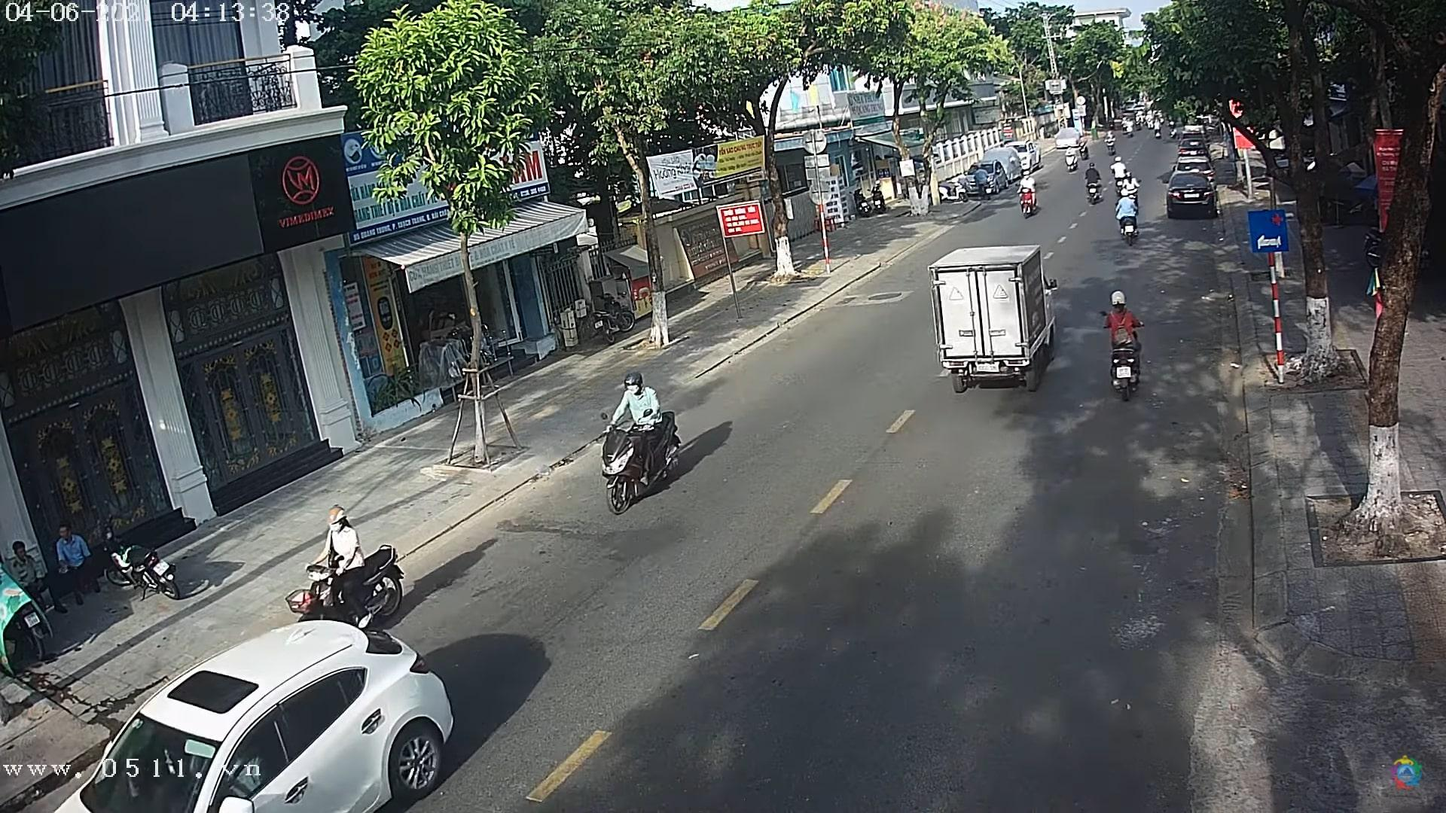car: (70, 620, 470, 812), (1164, 164, 1220, 217)
motorbike: (597, 405, 691, 512), (1106, 317, 1148, 401), (1117, 202, 1142, 245), (1020, 182, 1038, 218)
truck: (932, 243, 1057, 394)
